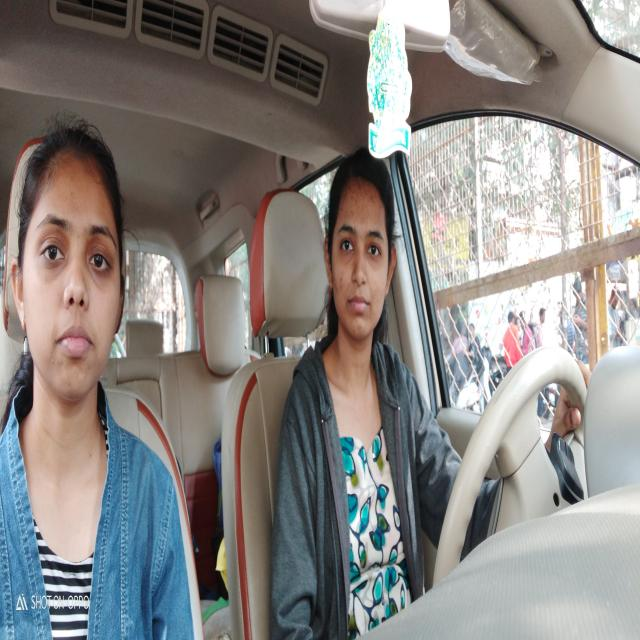person: (16, 122, 127, 401), (329, 143, 397, 348)
